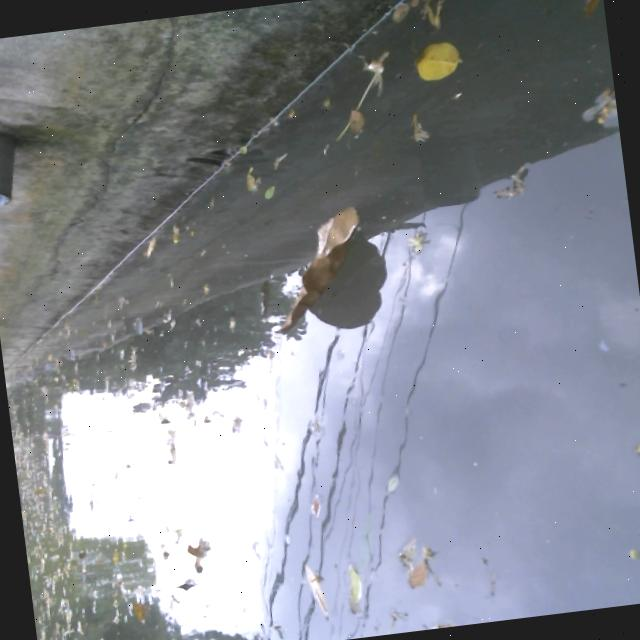Big-leaf: (257, 199, 379, 341)
Small-leaf: (399, 34, 466, 88), (413, 0, 472, 38), (296, 558, 331, 622), (485, 161, 539, 201), (338, 555, 370, 618), (176, 532, 217, 577), (353, 44, 393, 86), (404, 553, 435, 596), (343, 101, 372, 142), (378, 463, 408, 498), (299, 490, 325, 524), (137, 233, 163, 265), (263, 145, 293, 172), (385, 0, 411, 29), (240, 163, 263, 195), (265, 448, 287, 478), (255, 179, 282, 202), (574, 0, 605, 18), (174, 574, 195, 596), (627, 431, 640, 462), (626, 546, 640, 561)
